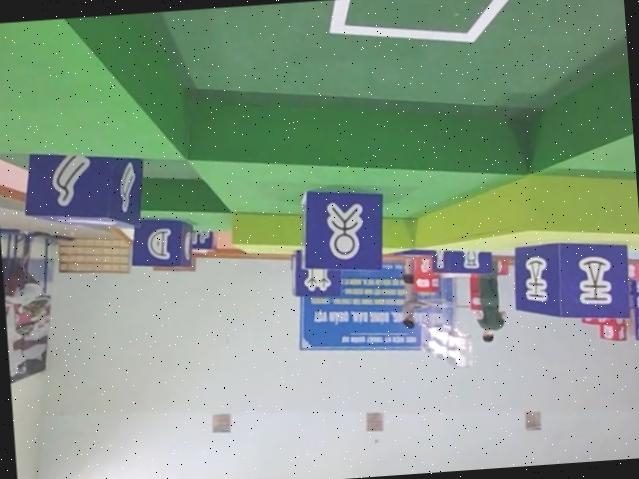R2 Real Blue: (16, 141, 143, 230), (511, 236, 632, 324), (294, 179, 384, 271), (124, 211, 191, 268), (287, 244, 338, 297), (425, 244, 489, 275)
